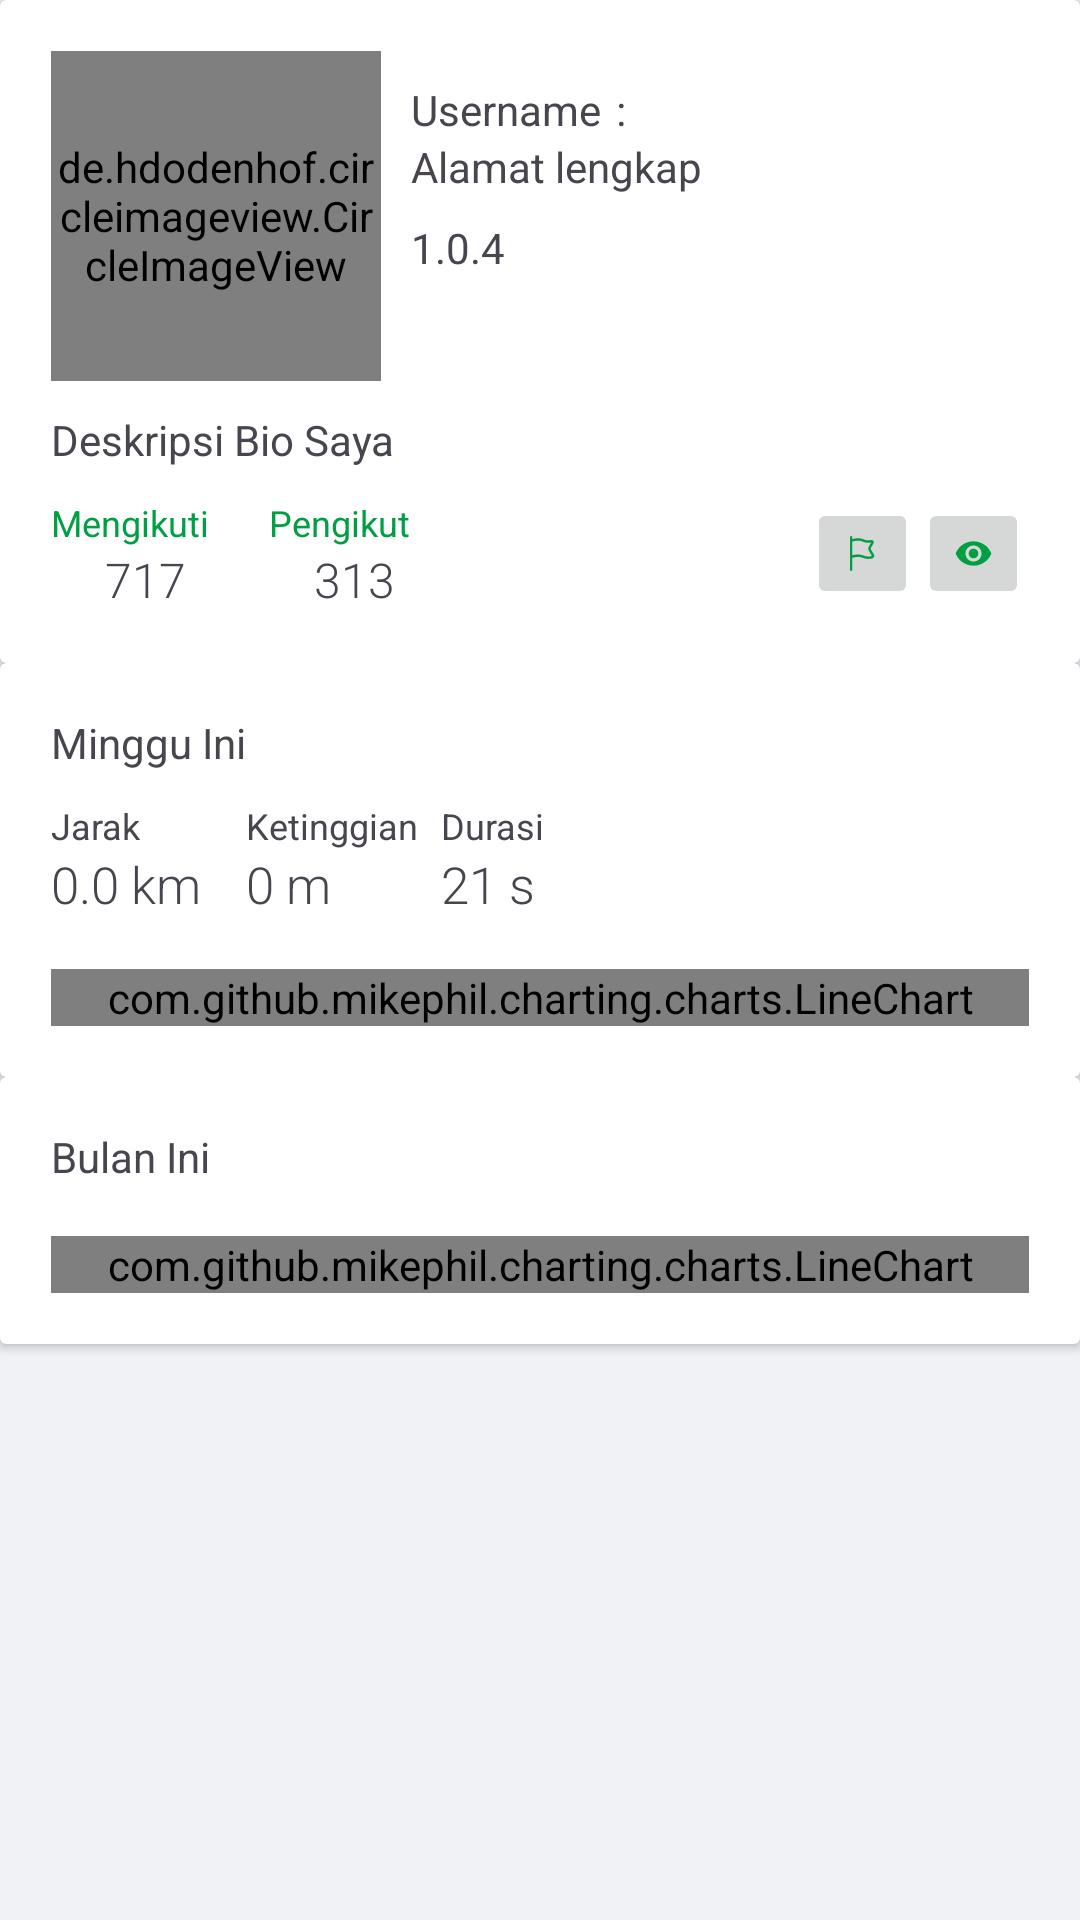

Named icons in this screenshot (1080w x 1920h) and their bounding boxes, (x1, y1, x2, y2):
eye: (930, 516, 1017, 591)
flag: (819, 516, 906, 591)
